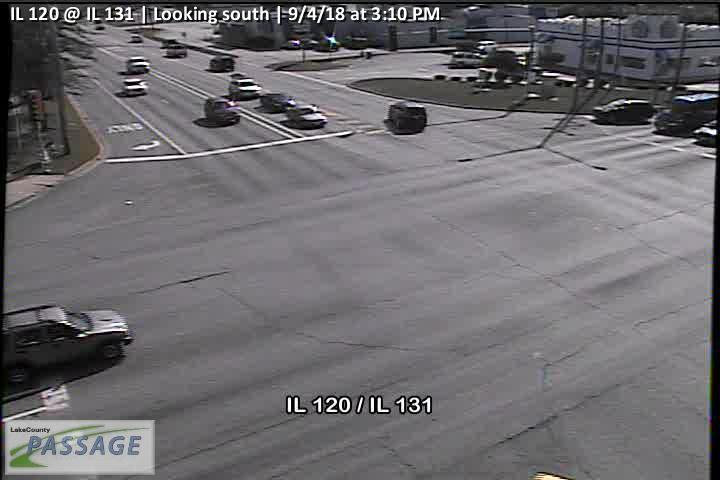SUV: (591, 97, 655, 124), (388, 100, 427, 132), (204, 97, 241, 125), (229, 76, 262, 99), (210, 55, 235, 71), (128, 56, 150, 73), (167, 43, 187, 58)
Sedan: (1, 306, 131, 389), (287, 103, 328, 128), (259, 92, 296, 111), (123, 79, 147, 96)
